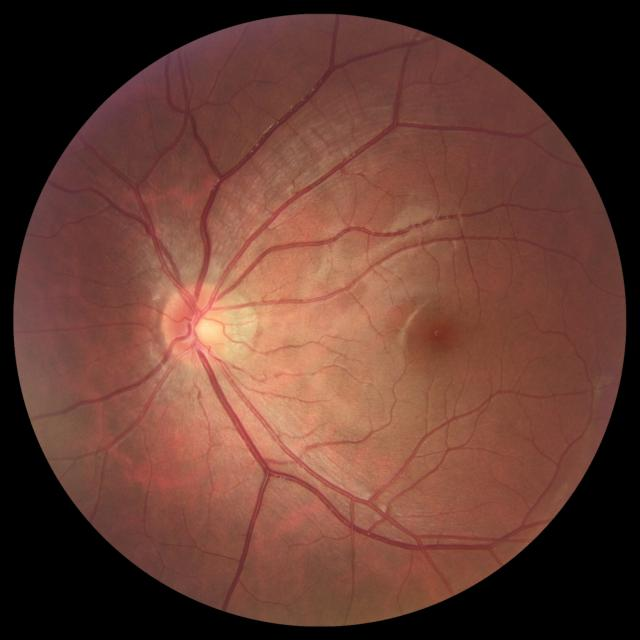OC: (185, 312, 222, 344)
OD: (162, 284, 228, 368)
